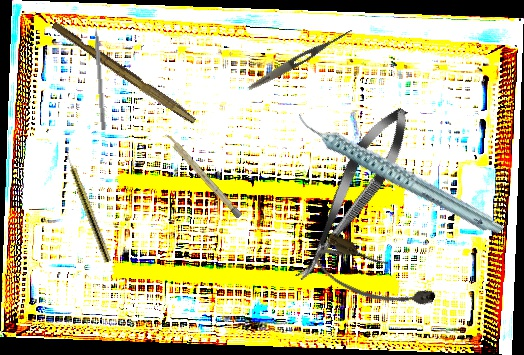Cannula: (308, 230, 441, 327)
Dressing Forceps: (246, 24, 355, 94)
Handpiece: (294, 72, 506, 273), (60, 145, 114, 264)
Micro Scissor: (283, 99, 421, 290)
Pusher: (92, 13, 108, 131)
Scalpel Handle: (49, 20, 200, 125), (163, 132, 243, 219)
